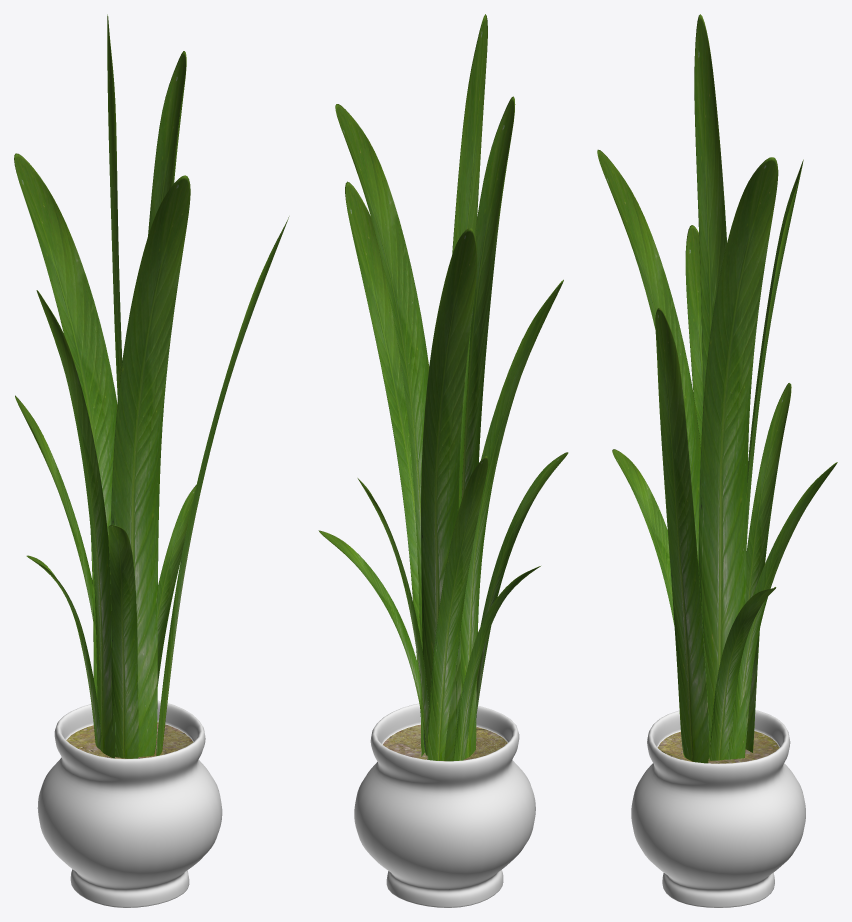
File: plant_pot_fbx.fbx
3 renders of one model, left to right at view 1: azimuth 30°, elevation 25°; view 2: azimuth 150°, elevation 25°; view 3: azimuth 270°, elevation 25°, orthographic. The views are drawn at different scales.
Visible parts, largest first — view 1: Plant leafs, Plant jar; view 2: Plant leafs, Plant jar; view 3: Plant leafs, Plant jar.
Part boxes in pixels (left/top/right/bottom): Plant leafs: left=14, top=14, right=289, bottom=758; Plant jar: left=37, top=700, right=222, bottom=907; Plant leafs: left=318, top=14, right=568, bottom=761; Plant jar: left=354, top=703, right=535, bottom=907; Plant leafs: left=597, top=14, right=837, bottom=763; Plant jar: left=631, top=710, right=805, bottom=907.
Bounding box in the file's own units: 46.06 × 164 × 41.82.
